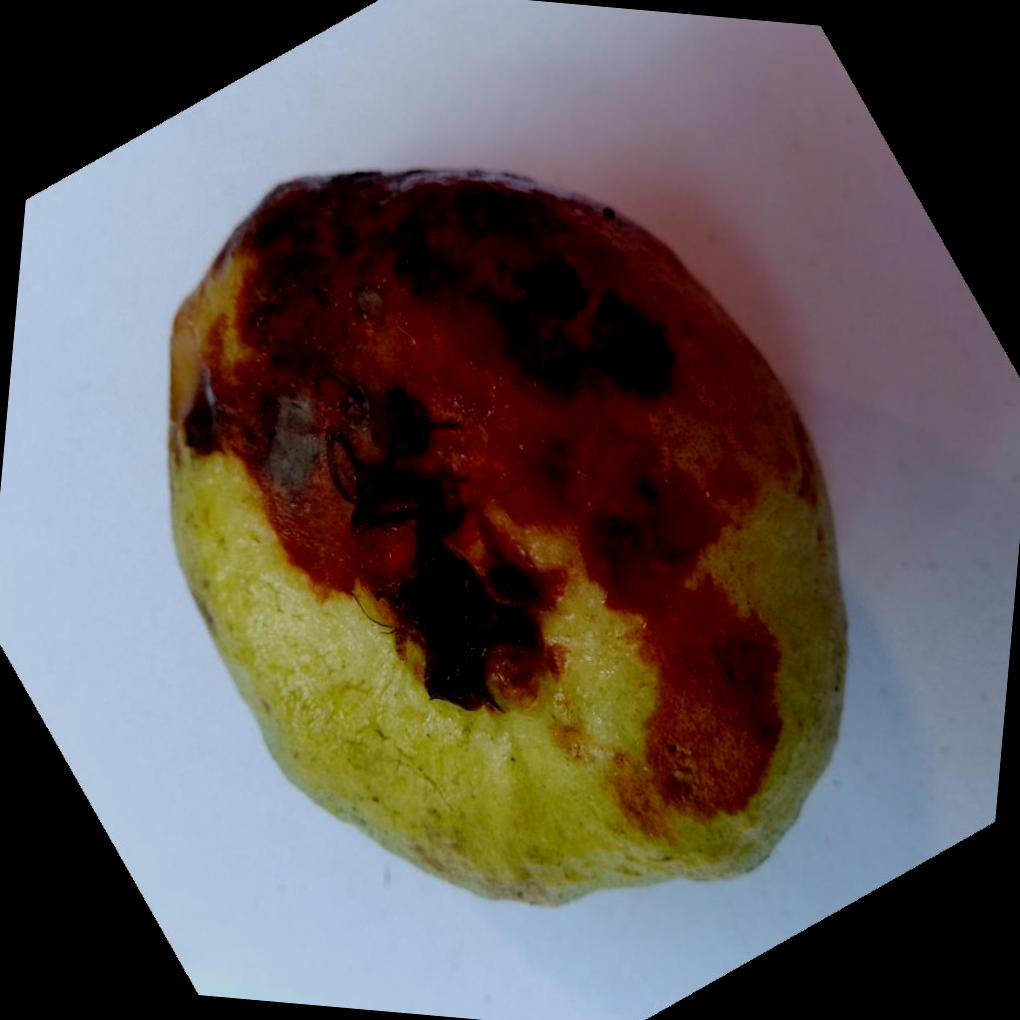FreshOrange: (164, 170, 850, 911)
